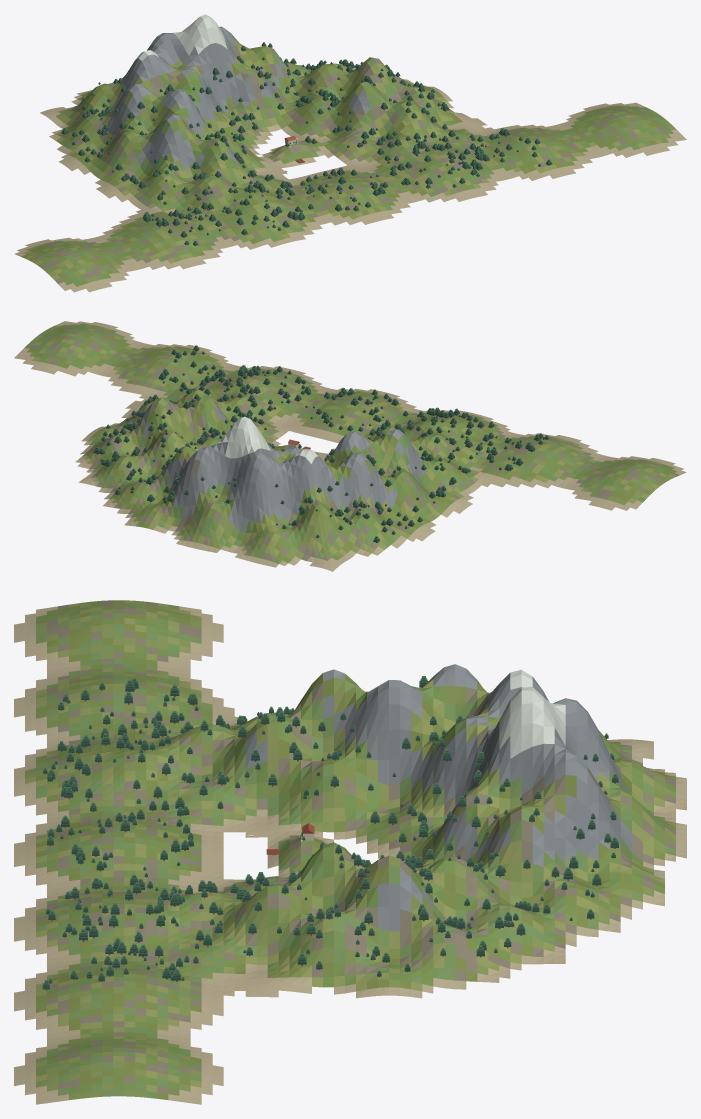
The model's file is landscape.glb.
3 renders of one model, top to bottom at view 1: azimuth 30°, elevation 25°; view 2: azimuth 150°, elevation 25°; view 3: azimuth 270°, elevation 25°, orthographic. The views are drawn at different scales.
Visible parts, largest first — view 1: sand, grass4, grass0, grass2, grass5, heather, grass1, granite, pine, pine-light, snowcap; view 2: granite, grass5, sand, grass0, grass2, grass1, heather, grass4, pine, pine-light, snowcap; view 3: sand, heather, grass4, grass1, grass0, grass5, grass2, granite, pine, pine-light, snowcap, roof.
Boxes of the visible parts, x1,y1,x2,y2 form: sand: (14,62,686,292); grass4: (43,49,673,280); grass0: (28,46,661,284); grass2: (23,47,662,280); grass5: (21,47,670,286); heather: (34,33,667,283); grass1: (26,39,676,282); granite: (107,26,370,170); pine: (61,44,552,245); pine-light: (63,42,550,243); snowcap: (136,14,229,61); granite: (140,399,425,532); grass5: (33,323,676,563); sand: (14,321,686,571); grass0: (24,325,673,563); grass2: (32,324,676,556); grass1: (29,324,672,559); heather: (30,325,679,561); grass4: (28,325,667,559); pine: (94,347,548,542); pine-light: (95,345,548,539); snowcap: (217,416,317,463); sand: (14,606,686,1104); heather: (36,600,675,1093); grass4: (25,602,675,1098); grass1: (25,600,675,1100); grass0: (36,600,675,1099); grass5: (36,600,675,1093); grass2: (25,600,675,1092); granite: (245,664,631,931); pine: (42,679,618,989); pine-light: (44,676,617,984); snowcap: (499,669,565,758); roof: (45,689,615,990).
Bounding box in the file's own units: 212 × 31.04 × 122.
